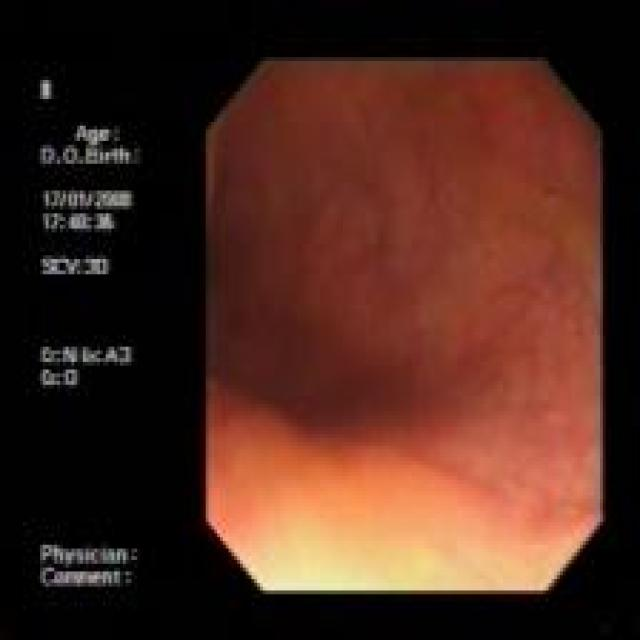color misalignment: (36, 73, 150, 590)
contrast: (208, 239, 326, 409)
saturation: (215, 431, 574, 590)
